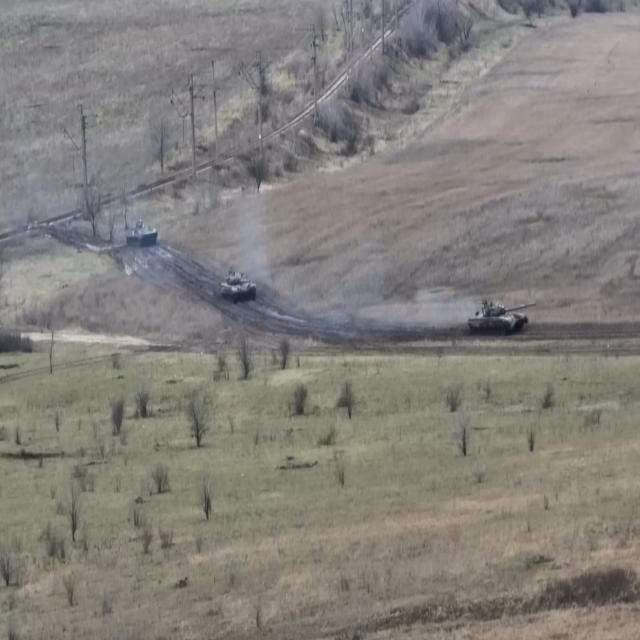AIFV: (126, 217, 160, 251)
MBT: (468, 292, 539, 336), (219, 267, 259, 306)
